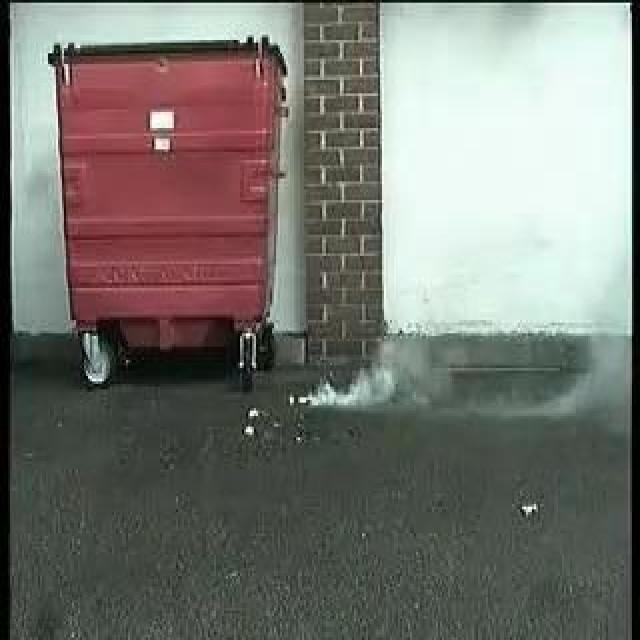Smoke: (301, 330, 445, 410)
